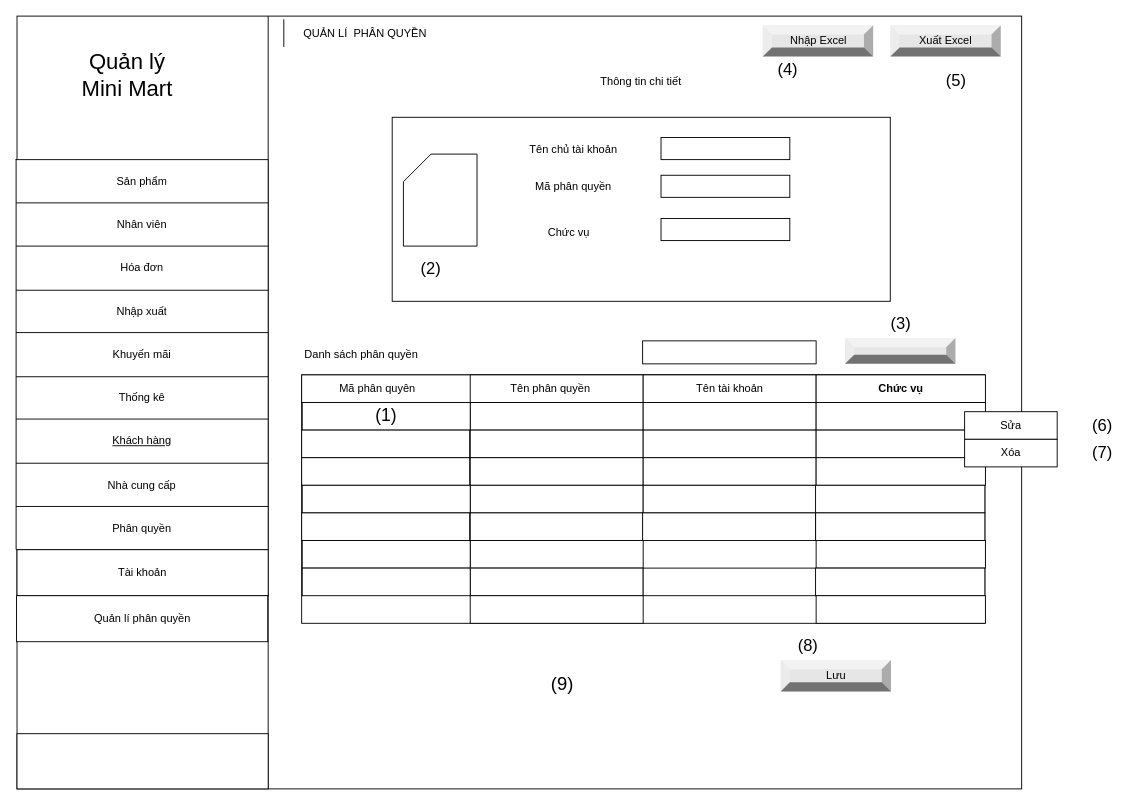
This 1146x806 diagram has some shape labels left out. The shapes that lost their labels are listed below. From the top down, each one's centre as x and y in pixels, then its label:
At (439,199): "ảnh".
At (729,352): "Nhập mã phân quyền".
At (900,350): "Tìm".
At (142,761): "Đăng xuất".
